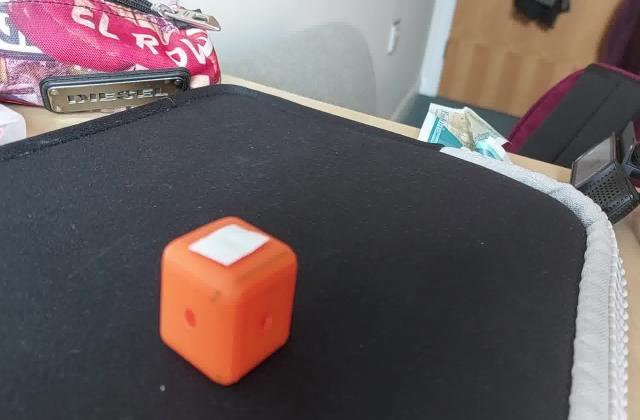cube: (154, 210, 298, 388)
white: (188, 224, 272, 268)
